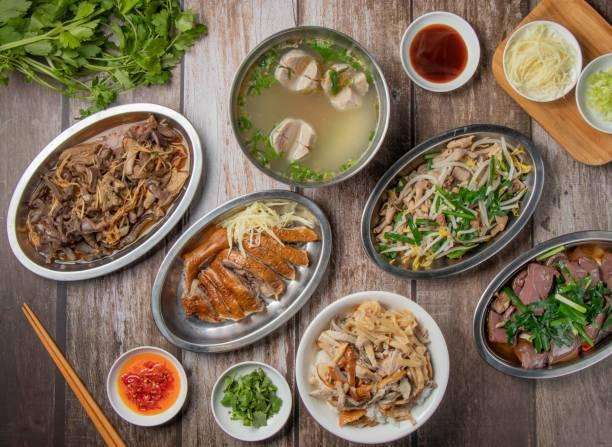Braised Crucian Carp: (5, 103, 199, 280), (152, 190, 327, 352), (361, 125, 542, 279), (229, 24, 388, 188), (294, 290, 449, 443), (471, 229, 610, 380)
